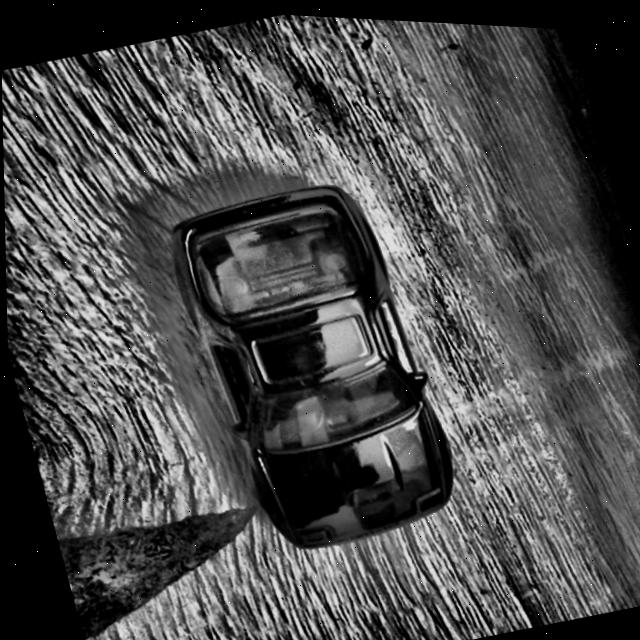car: (156, 159, 467, 568)
